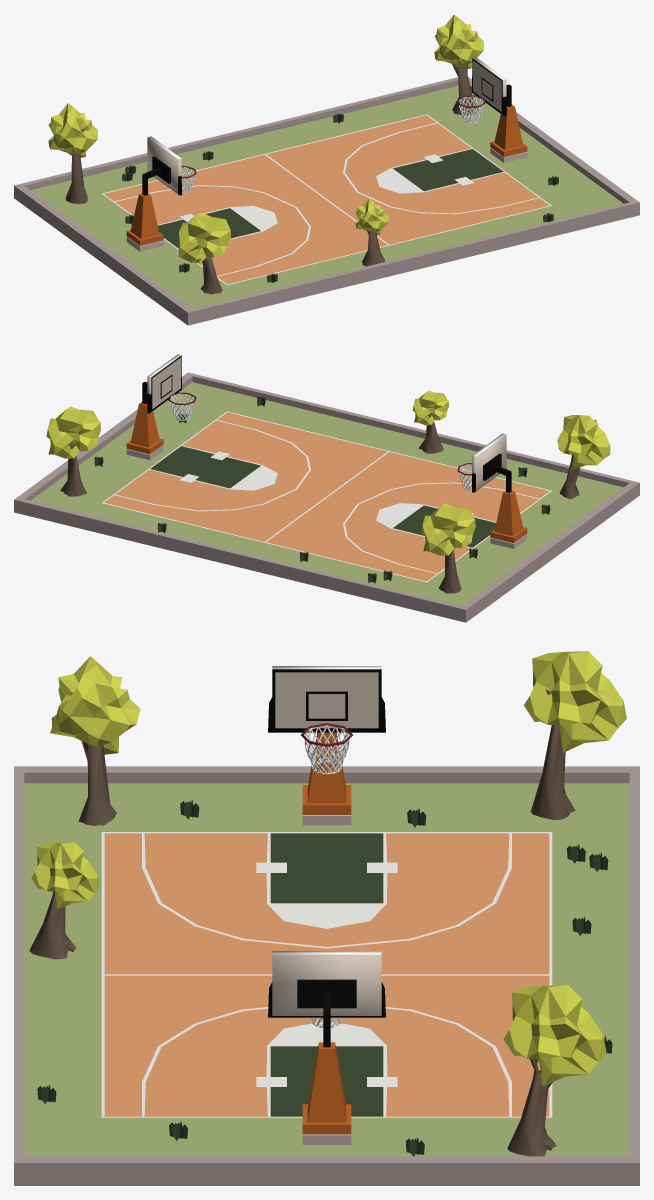
File: Basketball Court.fbx
3 renders of one model, top to bottom at view 1: azimuth 30°, elevation 25°; view 2: azimuth 150°, elevation 25°; view 3: azimuth 270°, elevation 25°, orthographic. The views are drawn at different scales.
Visible parts, largest first — view 1: Plane.001, Plane.002, Plane, Cube.001, Cylinder.003, Cube, Cube.004, Cube.003, Cube.002; view 2: Plane.001, Plane.002, Plane, Cube.001, Cylinder.003, Cube.003, Cube.004, Cube, Cube.002; view 3: Plane.001, Plane.002, Plane, Cube.001, Cylinder.003, Cube.004, Cube.003, Cube, Cube.002.
Part boxes in pixels (left/top/right/bottom): Plane.001: left=30, top=85, right=623, bottom=308; Plane.002: left=14, top=77, right=639, bottom=325; Plane: left=102, top=114, right=551, bottom=284; Cube.001: left=126, top=57, right=527, bottom=251; Cylinder.003: left=65, top=63, right=477, bottom=294; Cube: left=178, top=212, right=230, bottom=263; Cube.004: left=434, top=14, right=483, bottom=68; Cube.003: left=48, top=103, right=97, bottom=157; Cube.002: left=355, top=198, right=388, bottom=234; Plane.001: left=30, top=382, right=622, bottom=605; Plane.002: left=14, top=372, right=639, bottom=622; Plane: left=102, top=411, right=551, bottom=582; Cube.001: left=126, top=354, right=527, bottom=548; Cylinder.003: left=60, top=414, right=579, bottom=593; Cube.003: left=421, top=503, right=475, bottom=555; Cube.004: left=46, top=406, right=100, bottom=458; Cube: left=557, top=415, right=610, bottom=469; Cube.002: left=412, top=390, right=448, bottom=425; Plane.001: left=24, top=783, right=629, bottom=1156; Plane.002: left=14, top=766, right=639, bottom=1185; Plane: left=101, top=832, right=552, bottom=1117; Cube.001: left=268, top=666, right=385, bottom=1144; Cylinder.003: left=29, top=689, right=575, bottom=1156; Cube.004: left=503, top=985, right=606, bottom=1086; Cube.003: left=523, top=651, right=626, bottom=752; Cube: left=50, top=656, right=140, bottom=754; Cube.002: left=31, top=842, right=99, bottom=909.
Bounding box in the file's own units: 417 × 86.78 × 278.
